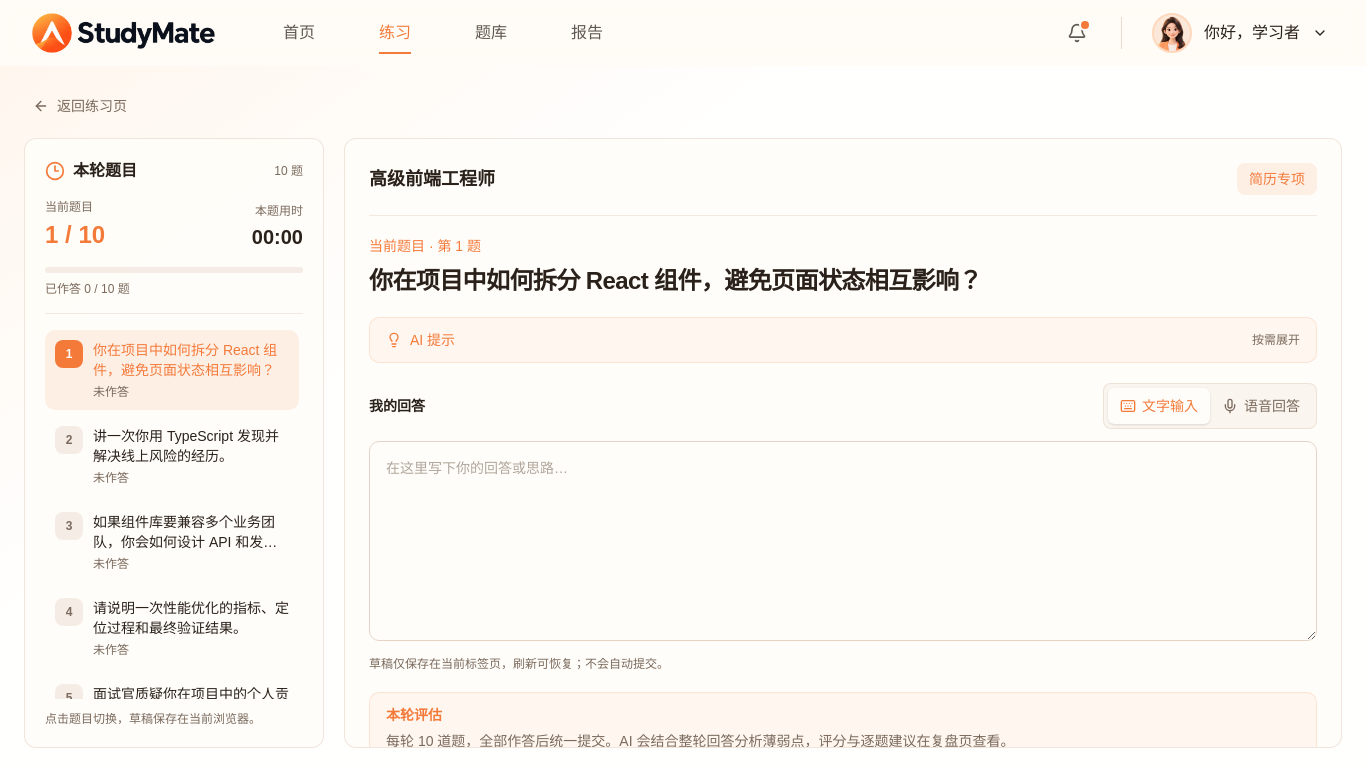
Test case: StudyMate home page › switches between text and a clearly unavailable voice answer without losing typed work
This screenshot has width=1366, height=768.
Expected: the navigation bar named "本轮题目目录" is shown, [45,313,303,699]
Type "先说明关键概念" into the text box named "我的回答".
click(843, 541); type("先说明关键概念")  # box [369,441,1317,641]
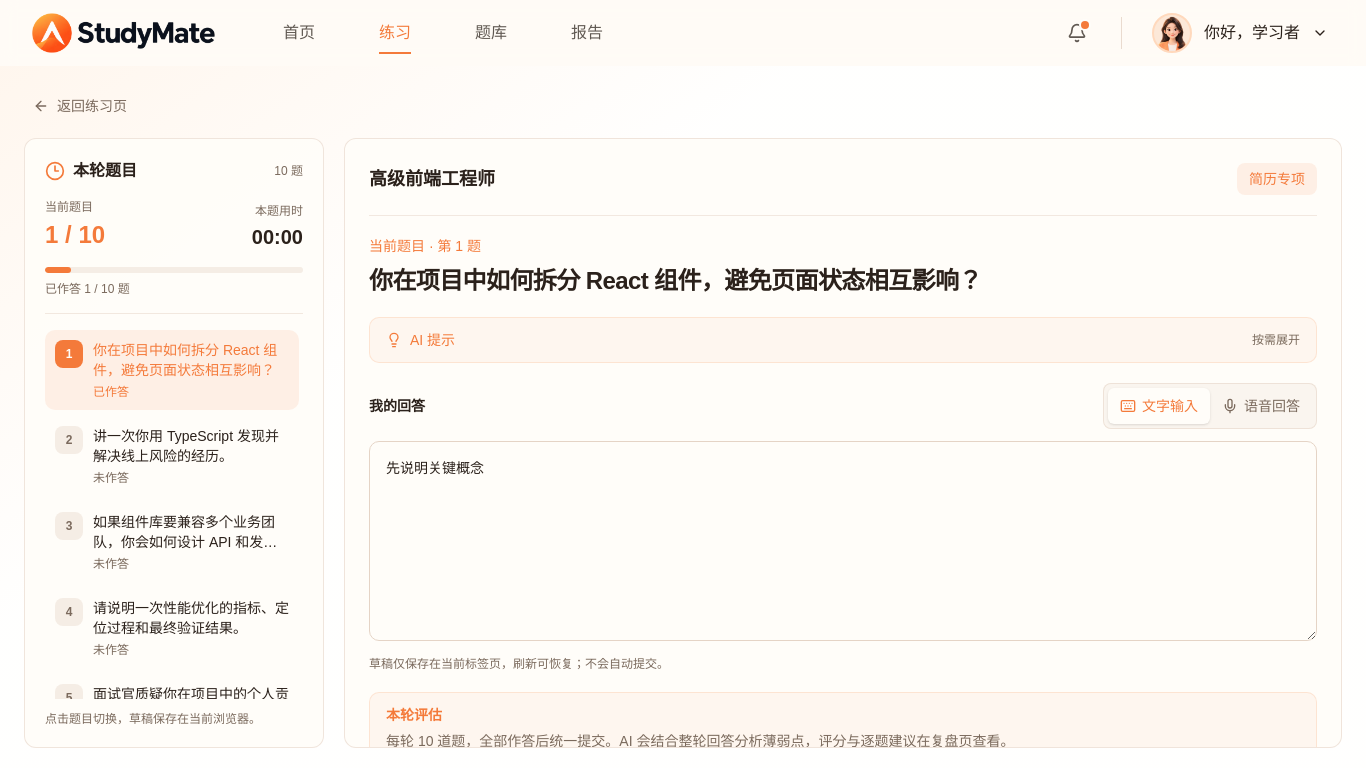
Click the button "语音回答".
click(1261, 406)  # box [1210,388,1312,424]
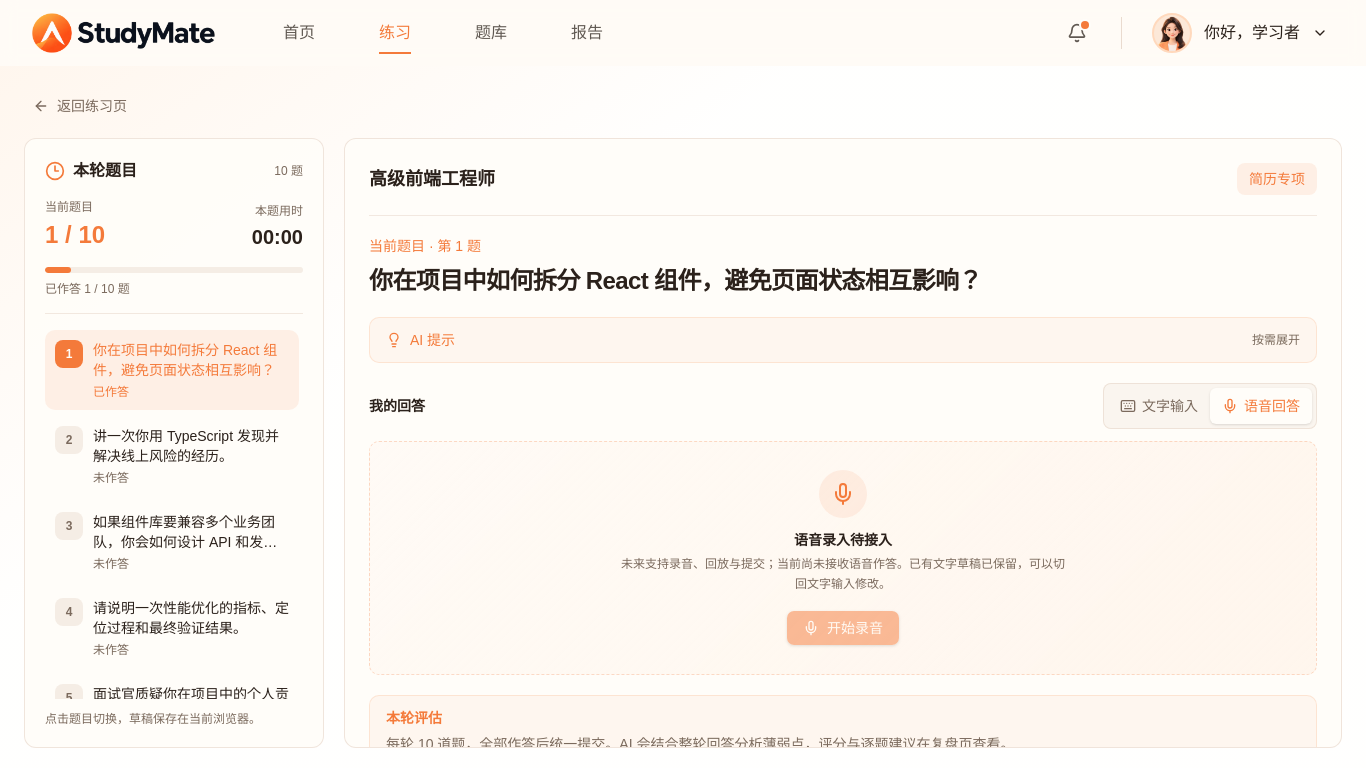
Result: the button "开始录音" is disabled at [786,610,900,646]
Result: the text "语音录入待接入" is shown at [794,530,892,550]
Result: the text "未来支持录音、回放与提交；当前尚未接收语音作答。已有文字草稿已保留，可以切回文字输入修改。" is shown at [619,554,1067,594]
Click the button "文字输入".
click(1159, 406)  # box [1108,388,1210,424]
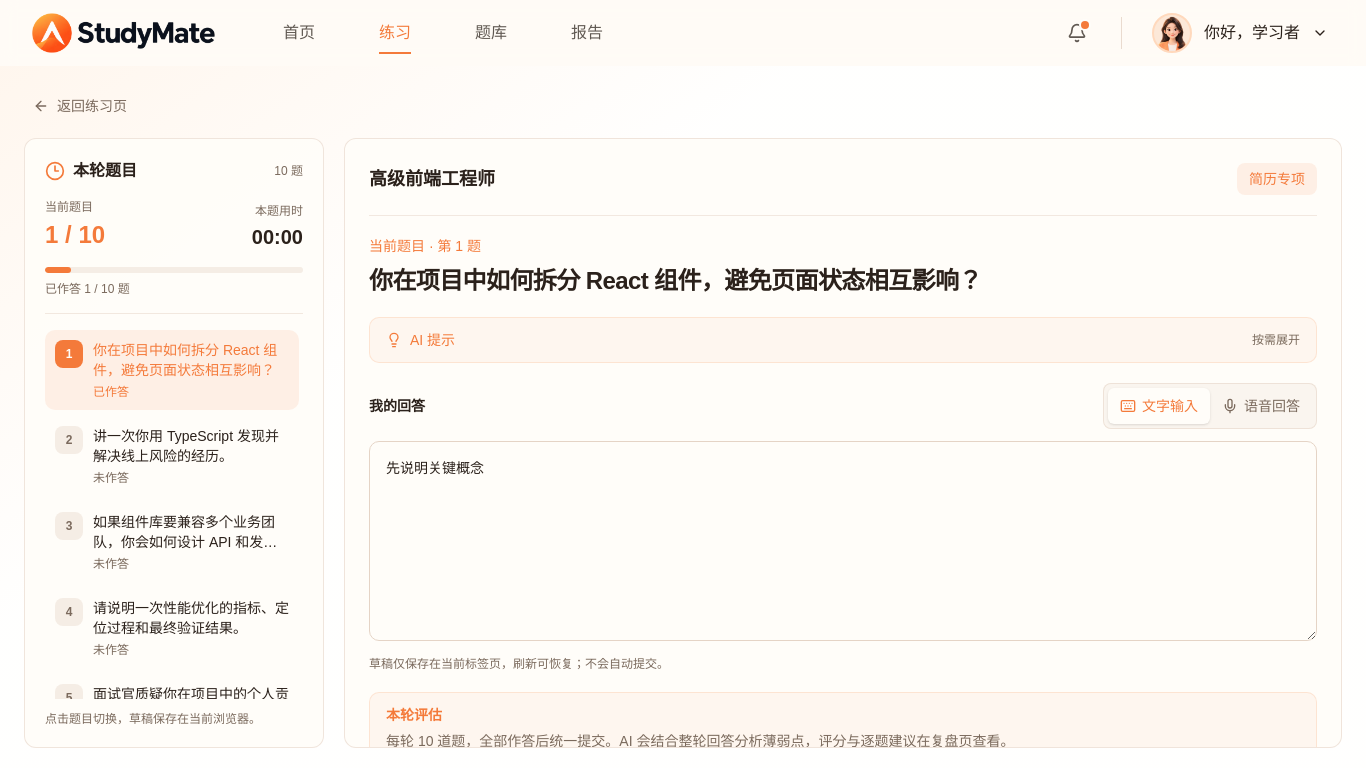
Result: the text box named "我的回答" holds "先说明关键概念" at [369,441,1317,641]
